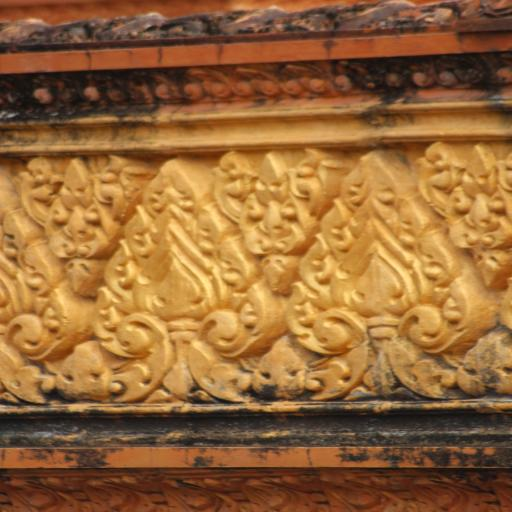la: (289, 150, 486, 358), (99, 152, 289, 361), (2, 157, 94, 359), (20, 158, 150, 299), (212, 146, 327, 291), (416, 140, 512, 288)
